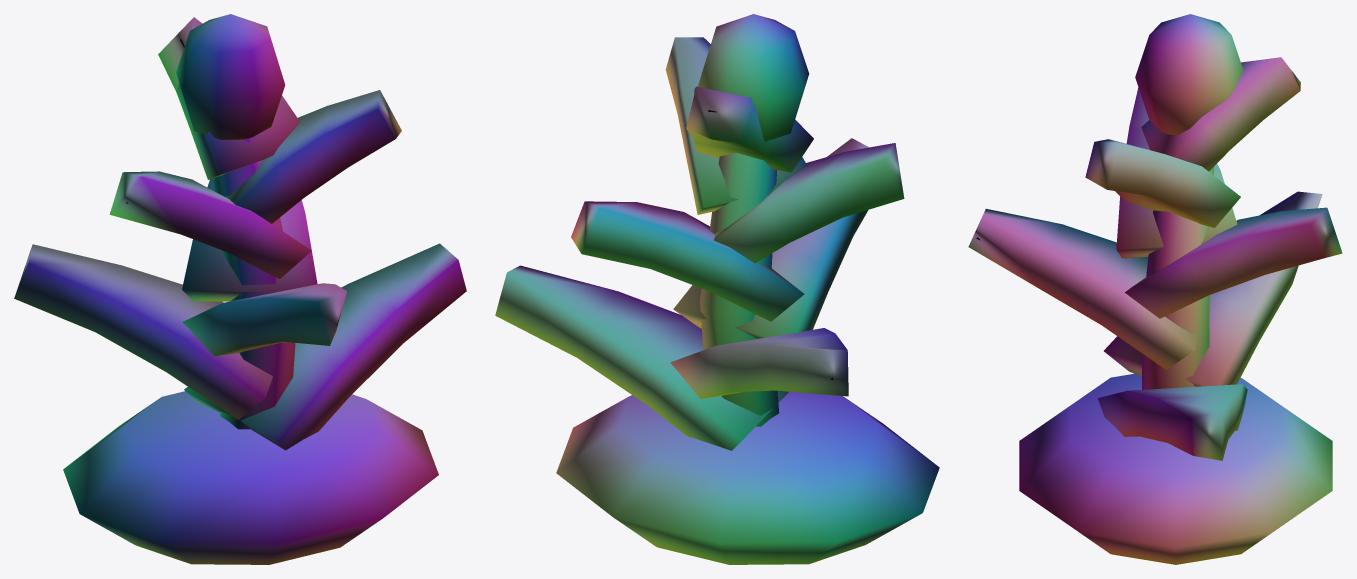
Rendered from SM_Prop_Gather_EmeraldHerb.fbx.
The picture shows the model from 3 angles, left to right: view 1: azimuth 30°, elevation 25°; view 2: azimuth 150°, elevation 25°; view 3: azimuth 270°, elevation 25°; orthographic projection. The views are drawn at different scales.
Visible parts, largest first — view 1: SM_Prop_Gather_EmeraldHerb; view 2: SM_Prop_Gather_EmeraldHerb; view 3: SM_Prop_Gather_EmeraldHerb.
Part boxes in pixels (x1,y1,x2,y2): SM_Prop_Gather_EmeraldHerb: [14, 14, 466, 564]; SM_Prop_Gather_EmeraldHerb: [495, 14, 939, 564]; SM_Prop_Gather_EmeraldHerb: [968, 14, 1342, 564].
Bounding box in the file's own units: 0.3072 × 0.381 × 0.2571.
